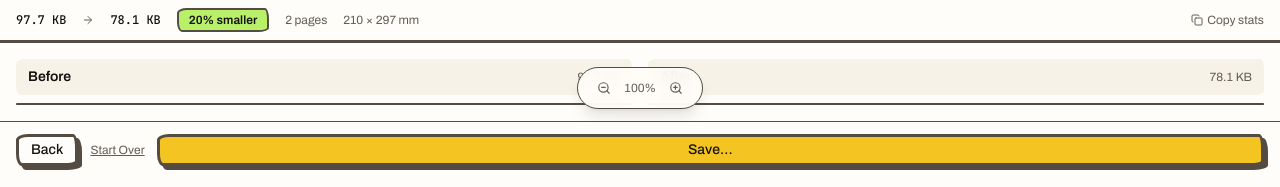
Test: CompareStep — zoom controls › zoom-out retreats to 75%
The image size is (1280, 187).
Click the button named "zoom out".
click(604, 88)  # box 590,74 -> 618,102
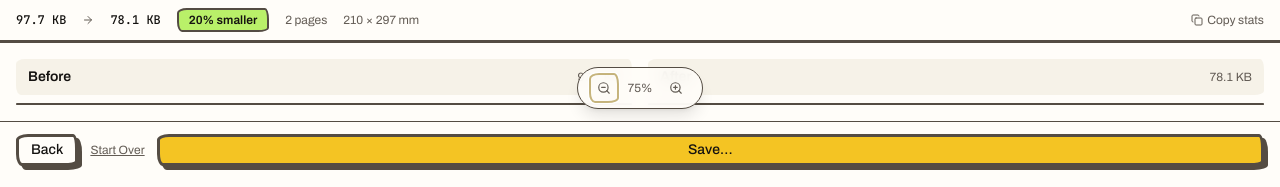
Expected: the text "75%" is shown, 628,81 -> 652,95
